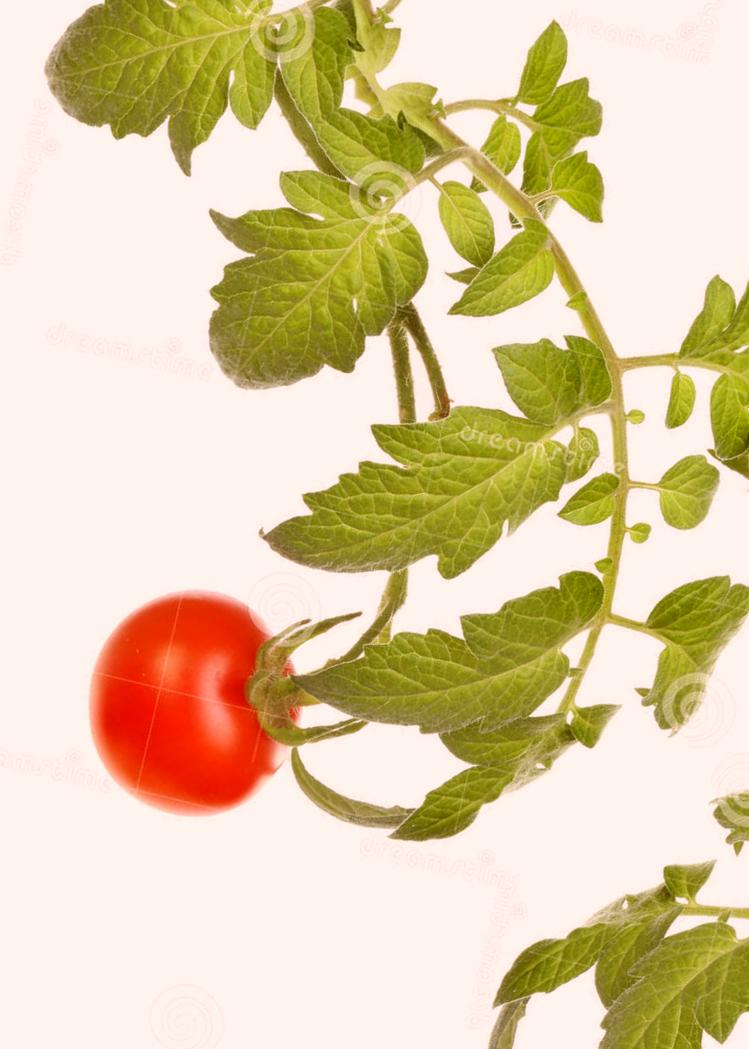Tomato leaf: (221, 278, 699, 681), (241, 494, 710, 876), (96, 93, 498, 470), (424, 209, 589, 352)
